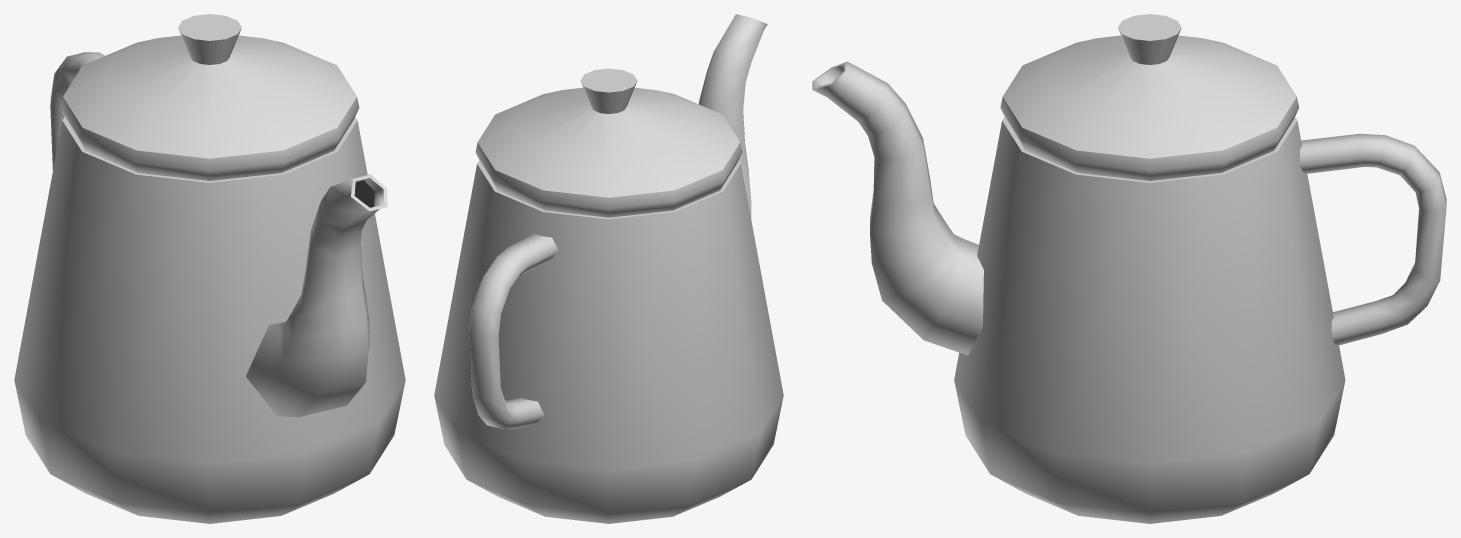
File: TeaPot_01.fbx
3 renders of one model, left to right at view 1: azimuth 30°, elevation 25°; view 2: azimuth 150°, elevation 25°; view 3: azimuth 270°, elevation 25°, orthographic. The views are drawn at different scales.
Visible parts, largest first — view 1: TeaPot_01, TeaPot_01_Lid; view 2: TeaPot_01, TeaPot_01_Lid; view 3: TeaPot_01, TeaPot_01_Lid.
Boxes of the visible parts, x1,y1,x2,y2 form: TeaPot_01: (14,52,405,523); TeaPot_01_Lid: (60,14,359,180); TeaPot_01: (434,14,783,523); TeaPot_01_Lid: (475,68,742,217); TeaPot_01: (812,61,1446,523); TeaPot_01_Lid: (1000,14,1299,180).
Bounding box in the file's own units: 0.1333 × 0.1735 × 0.216.
